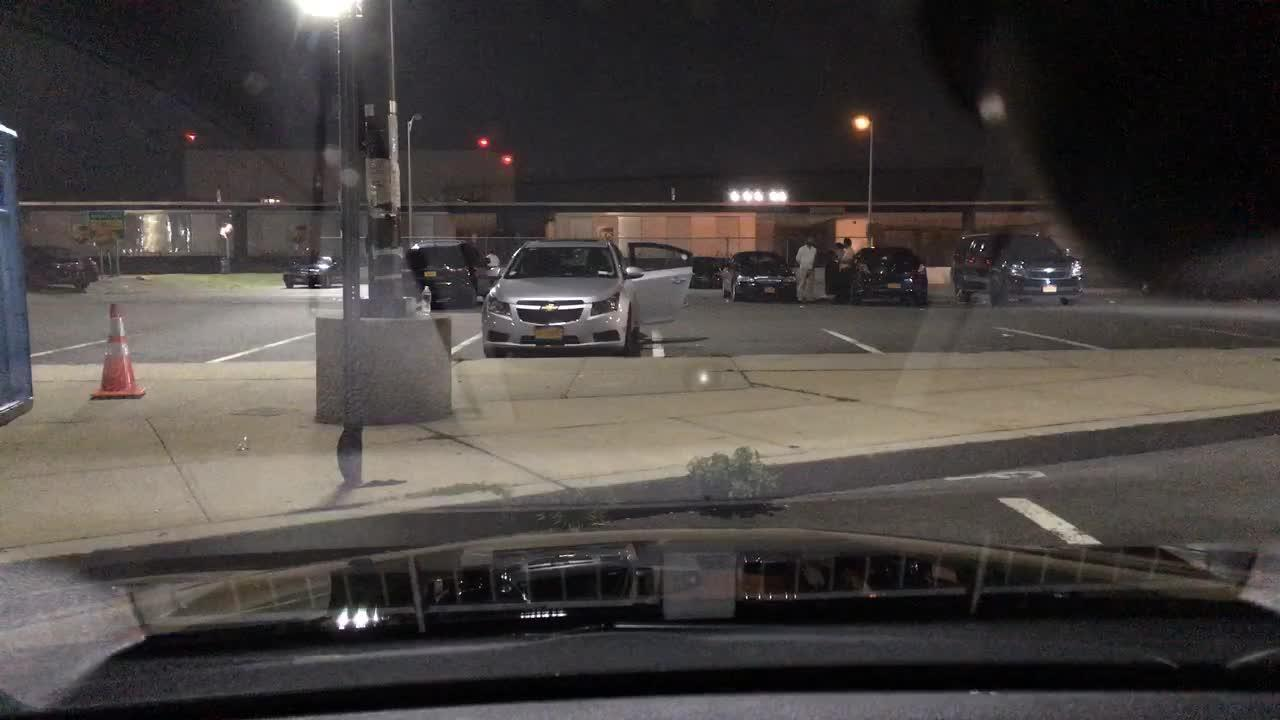chevrolet: (537, 299, 561, 318)
